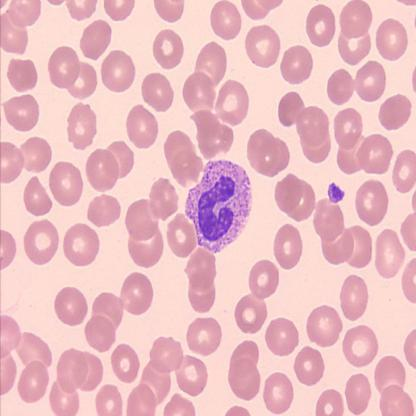Band Neutrophil: (183, 155, 254, 255)
